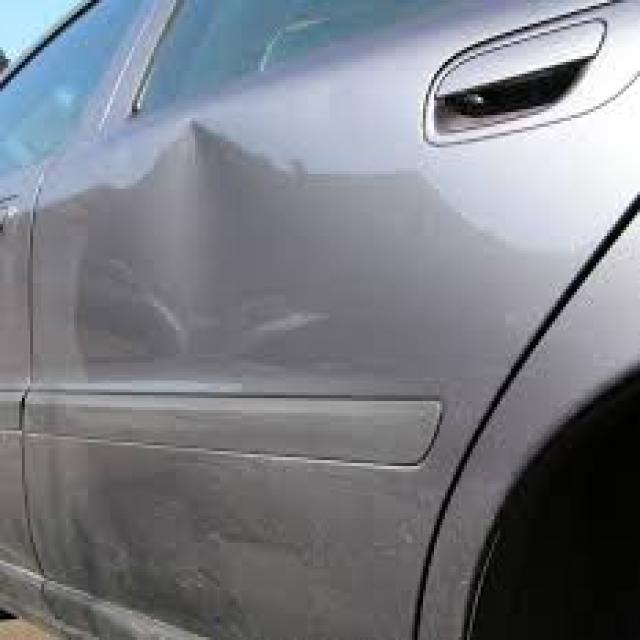minor: (130, 134, 360, 378)
